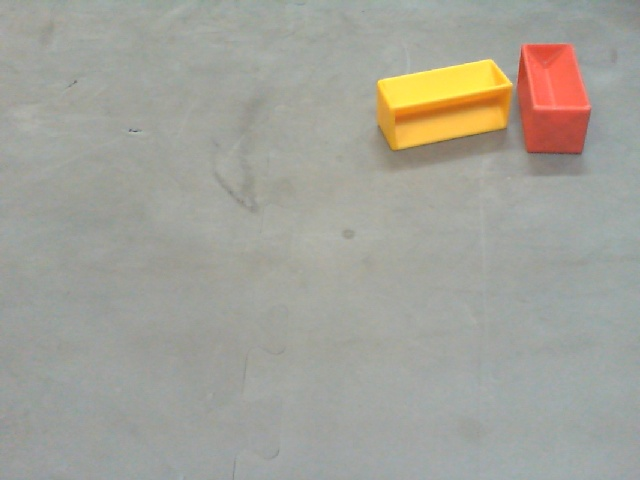RedSample: (513, 41, 592, 157)
YellowSample: (374, 60, 512, 153)
